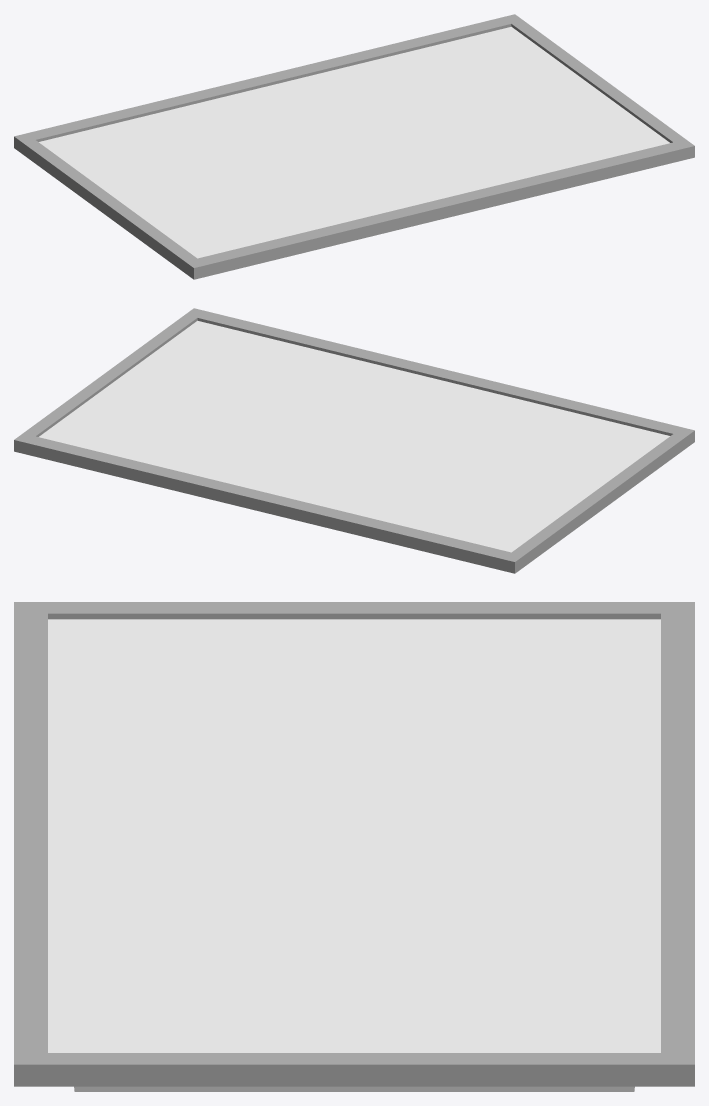
File: Moving Platform Vertical.fbx
The picture shows the model from 3 angles, top to bottom: view 1: azimuth 30°, elevation 25°; view 2: azimuth 150°, elevation 25°; view 3: azimuth 270°, elevation 25°; orthographic projection. The views are drawn at different scales.
Visible parts, largest first — view 1: Cube; view 2: Cube; view 3: Cube.
Boxes of the visible parts, x1,y1,x2,y2 form: Cube: (14, 14, 694, 279); Cube: (14, 308, 694, 573); Cube: (14, 602, 694, 1091).
Size of the model in its own units: 450 by 28.5 by 280.
